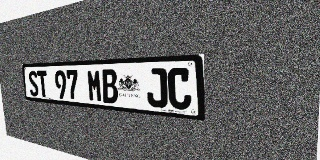7: (65, 70, 80, 100)
9: (54, 70, 68, 99)
B: (101, 69, 119, 104)
C: (167, 67, 192, 110)
J: (146, 68, 168, 108)
M: (87, 69, 103, 102)
S: (28, 71, 39, 97)
T: (37, 71, 49, 97)
